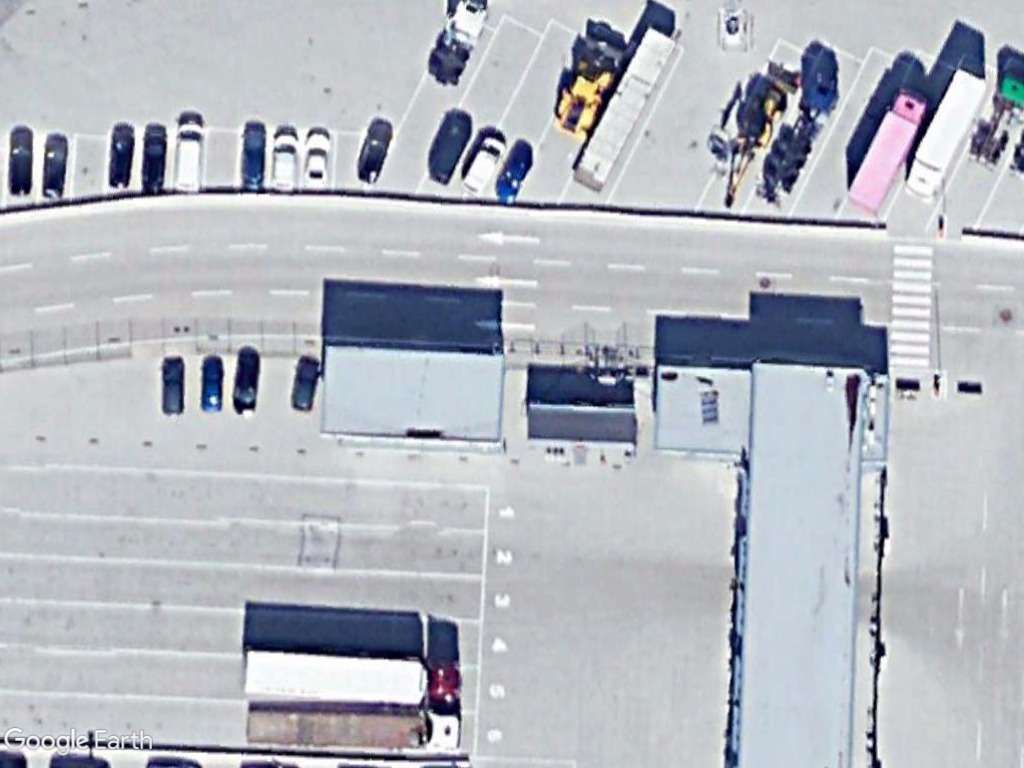car: (351, 114, 400, 189), (457, 127, 509, 196), (490, 141, 543, 206), (265, 126, 304, 199), (196, 351, 228, 421), (301, 126, 332, 194)
truck: (840, 80, 935, 216), (902, 67, 993, 207)
van: (167, 114, 209, 202)
